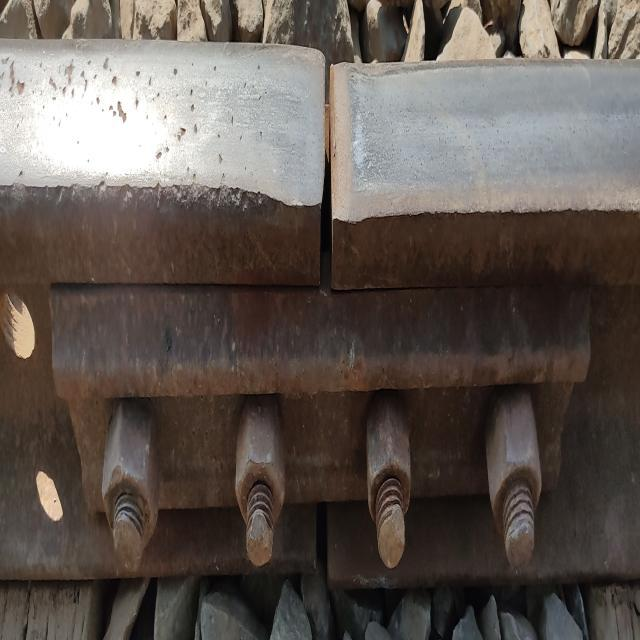Good Joint: (51, 276, 584, 589)
